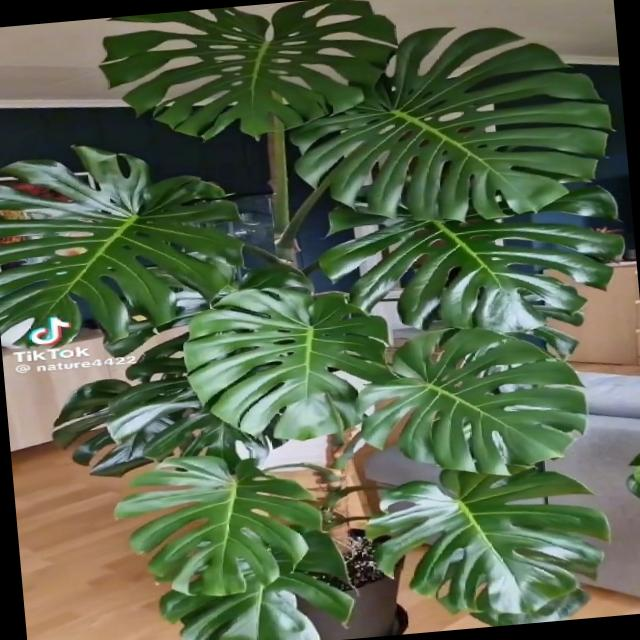roslina_zdrowa: (0, 0, 625, 640)
